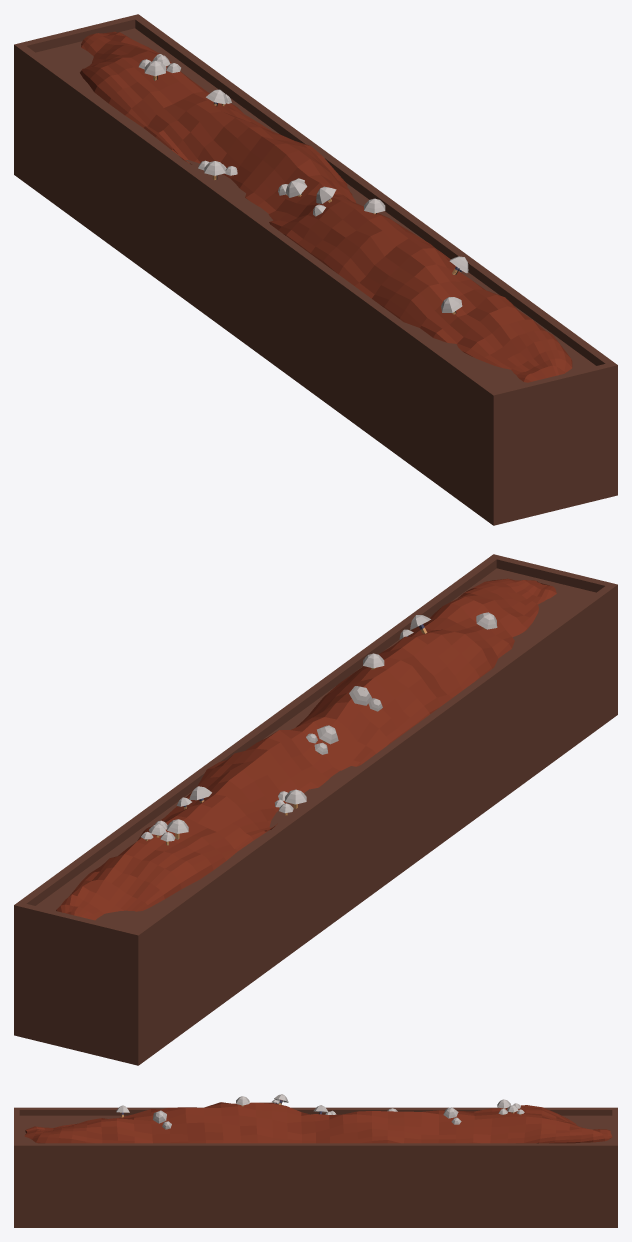
The model's file is Farmi_Kasviurat_SeinällinenSienet.fbx.
3 views of the same model, one above another, from view 1: azimuth 30°, elevation 25°; view 2: azimuth 150°, elevation 25°; view 3: azimuth 270°, elevation 25° (orthographic). The views are drawn at different scales.
Visible parts, largest first — view 1: Seinällinen Ura Sienillä; view 2: Seinällinen Ura Sienillä; view 3: Seinällinen Ura Sienillä.
Boxes of the visible parts, box(x1,y1,x2,y2) form: Seinällinen Ura Sienillä: box(14, 14, 617, 525); Seinällinen Ura Sienillä: box(14, 554, 617, 1065); Seinällinen Ura Sienillä: box(14, 1094, 617, 1227).
Size of the model in its own units: 60 by 82.45 by 400.
